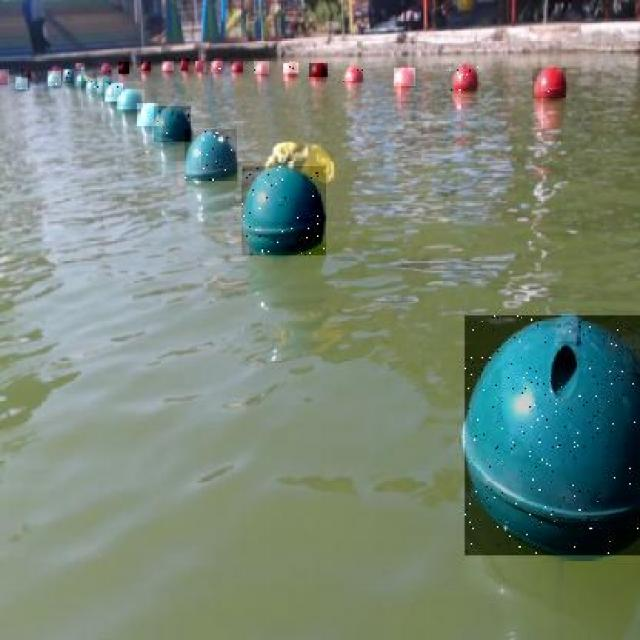green_ball: (464, 315, 638, 555), (242, 166, 326, 256), (185, 130, 237, 180), (154, 108, 190, 141), (118, 88, 142, 110), (137, 103, 159, 126), (105, 83, 124, 101), (96, 77, 113, 96), (86, 78, 100, 95), (74, 72, 88, 87), (63, 69, 75, 85), (48, 74, 60, 86), (16, 77, 28, 89)
red_ball: (534, 67, 566, 98), (452, 62, 479, 93), (394, 68, 415, 86), (346, 65, 364, 82), (310, 63, 328, 76), (254, 60, 268, 74), (211, 58, 224, 73), (231, 61, 243, 74), (284, 63, 298, 74), (100, 62, 112, 74), (162, 60, 173, 72), (119, 62, 129, 74), (141, 60, 151, 71), (195, 60, 203, 72), (180, 60, 188, 71), (0, 72, 8, 83), (76, 63, 84, 69)
